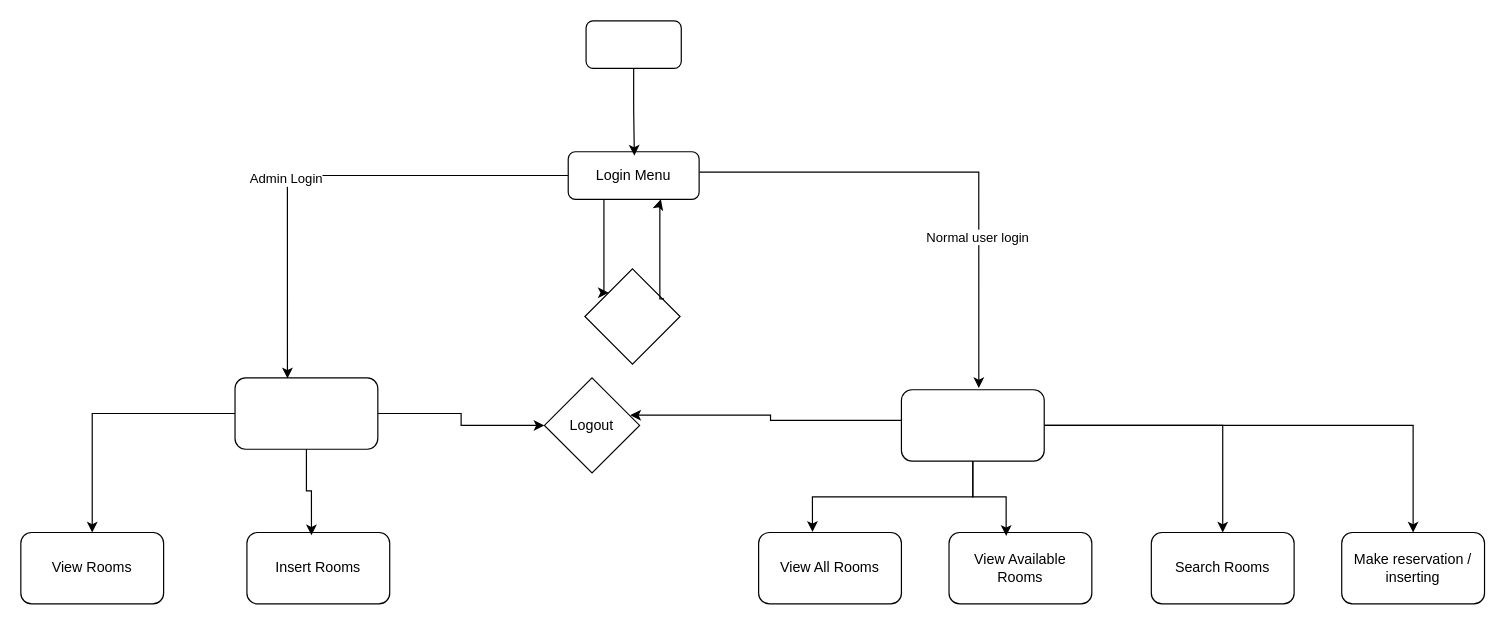
Some shapes in this 1505 by 625 pixel diagram are drawn without their labels. The centre of each missing label's shape, as x and y in pixels:
Admin Menu: the point at 306,413
Login failed: the point at 632,316
Start: the point at 633,44
User Menu: the point at 972,425
